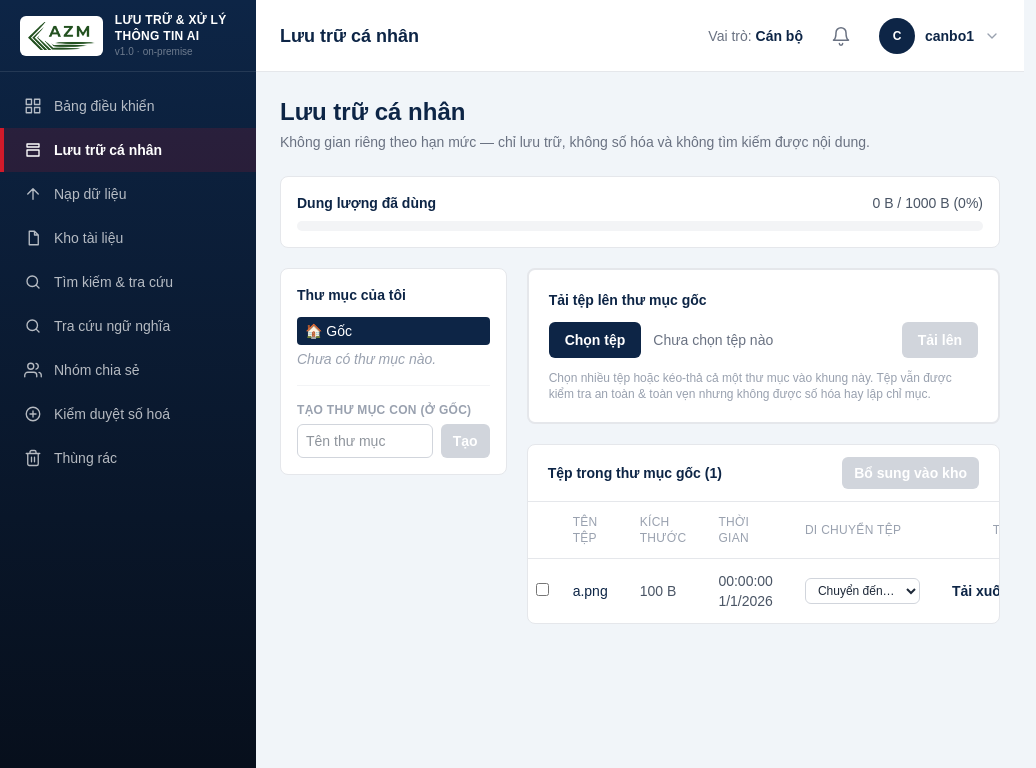
PersonalPage - Bổ sung vào kho button › is shown for R1 (can upload) and disabled until a file is ticked
expect the button "Bổ sung vào kho" is disabled: met, box [842,457,979,489]
Click the checkbox named "Chọn a.png": (542, 590) [536,583,549,596]
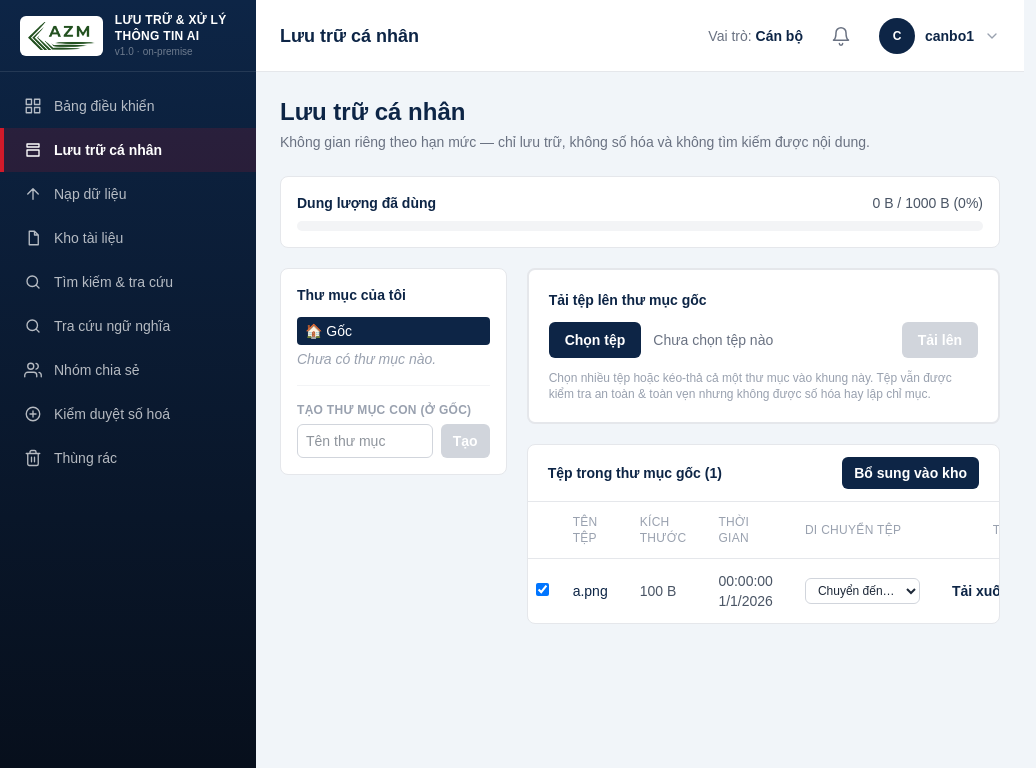
expect the button "Bổ sung vào kho" is enabled: met, box [842,457,979,489]
